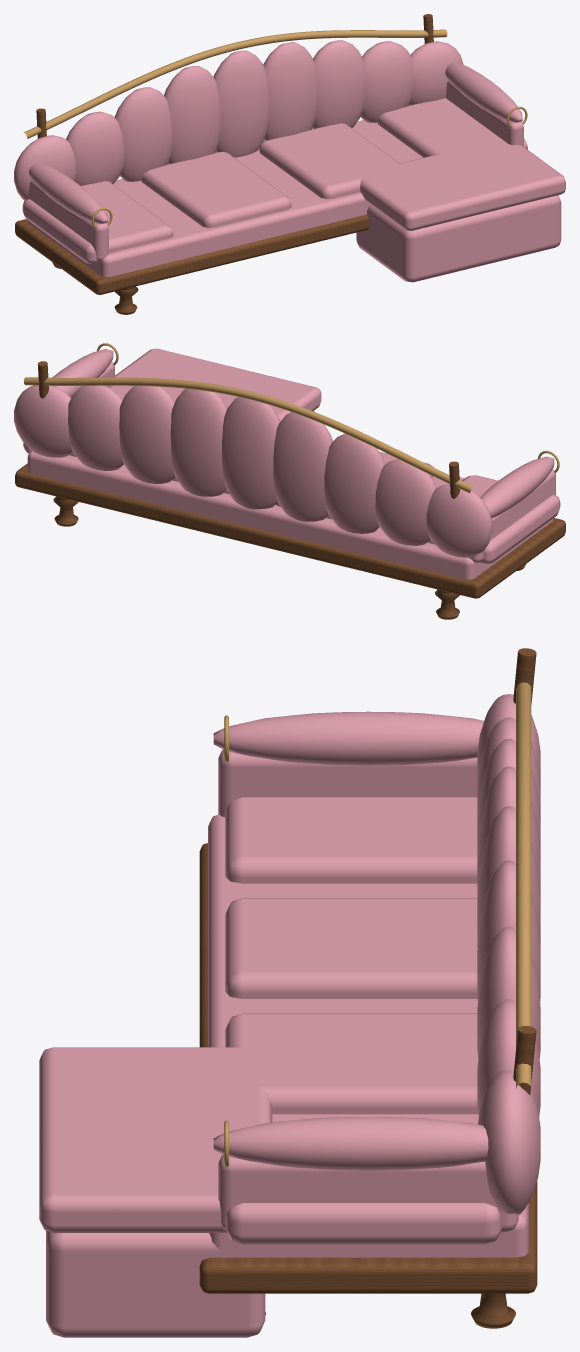
The model's file is sofa_arcade-e4da989b085b.glb.
The picture shows the model from 3 angles, top to bottom: view 1: azimuth 30°, elevation 25°; view 2: azimuth 150°, elevation 25°; view 3: azimuth 270°, elevation 25°; orthographic projection. The views are drawn at different scales.
Parts seen in each view (by area): view 1: surface_rose, surface_walnut, surface_brass; view 2: surface_rose, surface_walnut, surface_brass; view 3: surface_rose, surface_walnut, surface_brass.
Part boxes in pixels (<box>): surface_rose: <box>14,40,565,282</box>; surface_walnut: <box>15,14,433,314</box>; surface_brass: <box>24,29,527,228</box>; surface_rose: <box>14,348,560,579</box>; surface_walnut: <box>15,361,565,619</box>; surface_brass: <box>23,343,559,493</box>; surface_rose: <box>39,694,540,1337</box>; surface_walnut: <box>199,648,537,1328</box>; surface_brass: <box>224,682,531,1167</box>.
Size of the model in its own units: 2.67 by 0.9814 by 1.29.
3 materials, 1 textured.
